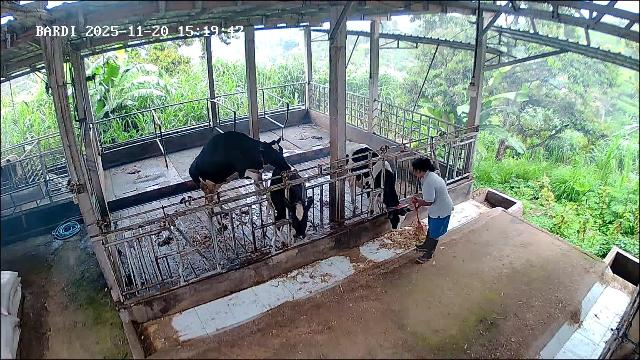mounting: (188, 130, 291, 229)
